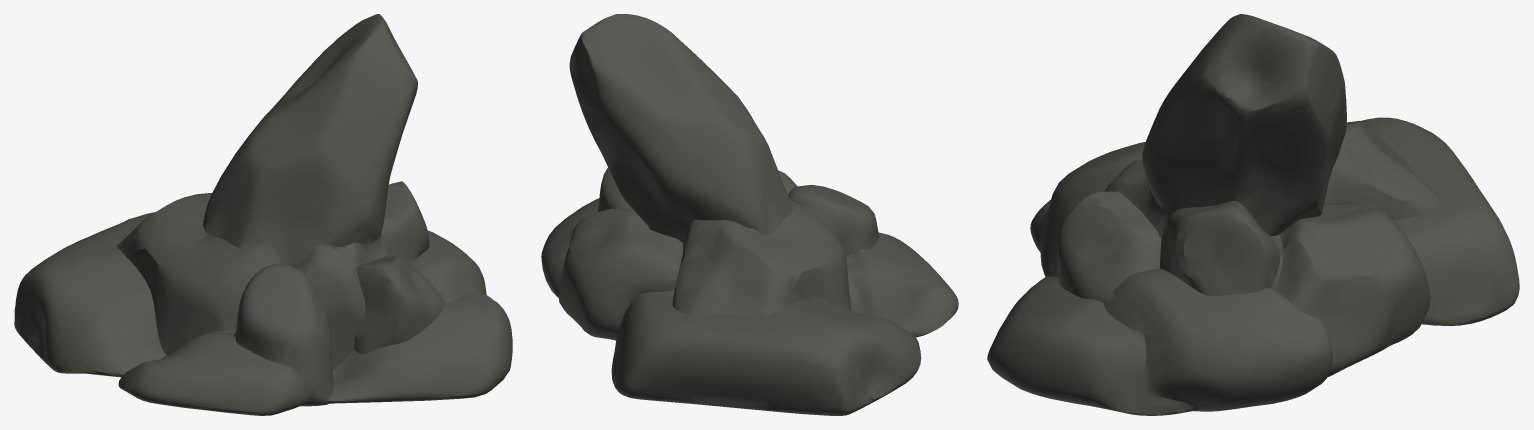
The model's file is rocks-1.glb.
3 views of the same model, side by side, from view 1: azimuth 30°, elevation 25°; view 2: azimuth 150°, elevation 25°; view 3: azimuth 270°, elevation 25° (orthographic). The views are drawn at different scales.
Visible parts, largest first — view 1: Environment_Cliff4; view 2: Environment_Cliff4; view 3: Environment_Cliff4.
Part boxes in pixels (left/top/right/bottom): Environment_Cliff4: left=14, top=14, right=512, bottom=415; Environment_Cliff4: left=541, top=14, right=958, bottom=415; Environment_Cliff4: left=987, top=14, right=1519, bottom=415.
Bounding box in the file's own units: 7.38 × 5.53 × 7.12.
1 material, 1 textured.
